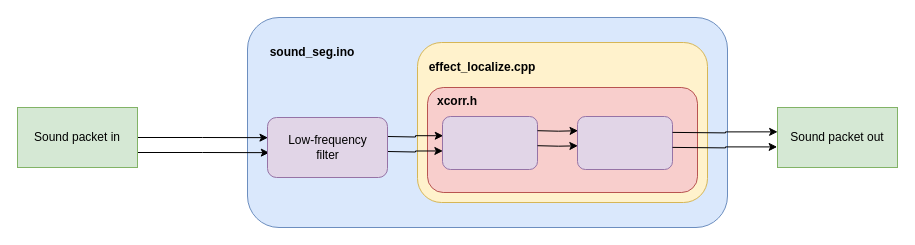
Image size: 915x245. Some labels were removed from this diagram. The shapes that lost their labels are listed below. From the top down, each one's centre as x and y in pixels, then its label:
At point (490, 143): "Amplitude Minimization".
At point (624, 143): "Cross Correlation".
